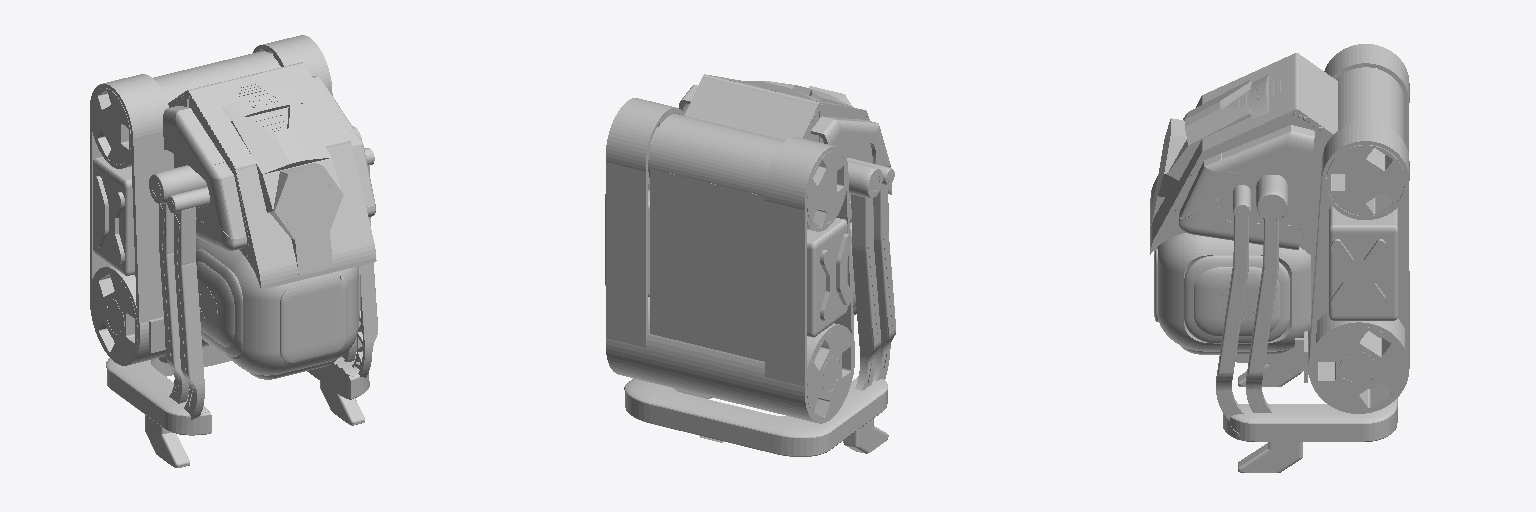
File: Robot.obj
3 renders of one model, left to right at view 1: azimuth 30°, elevation 25°; view 2: azimuth 150°, elevation 25°; view 3: azimuth 270°, elevation 25°, orthographic.
Visible parts, largest first — view 1: obj_0; view 2: obj_0; view 3: obj_0.
Part boxes in pixels (bbox=[...]): obj_0: bbox=[90, 35, 377, 467]; obj_0: bbox=[605, 74, 895, 456]; obj_0: bbox=[1150, 44, 1409, 472].
Bounding box in the file's own units: 69.66 × 106 × 71.33.